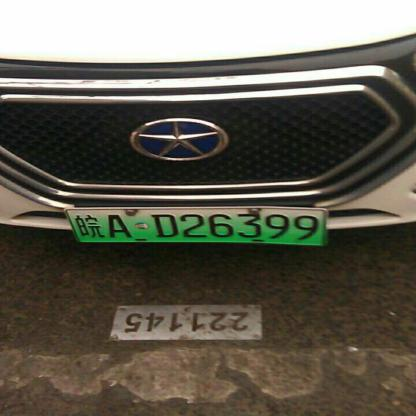lp: (65, 209, 325, 245)
